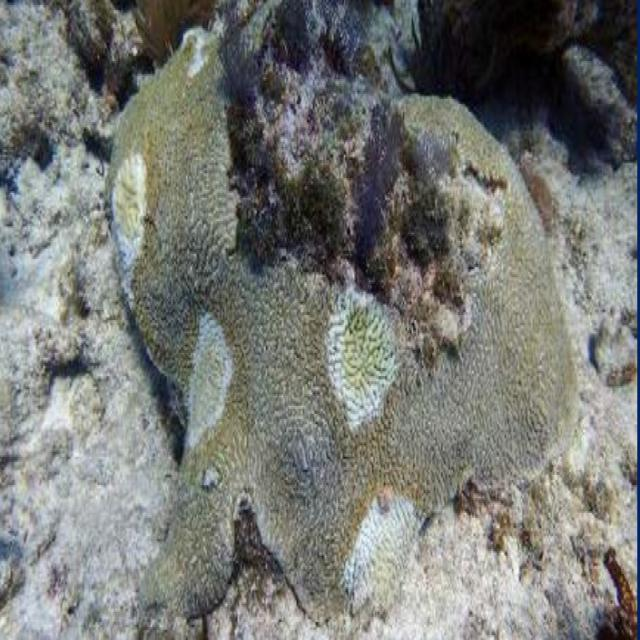Coral: (104, 0, 578, 640)
